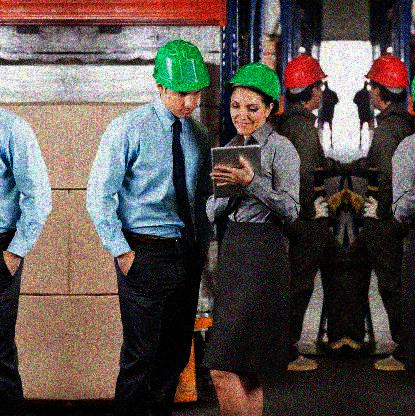helmet: (151, 40, 211, 119), (221, 62, 281, 136), (283, 53, 331, 109), (363, 54, 410, 111)
